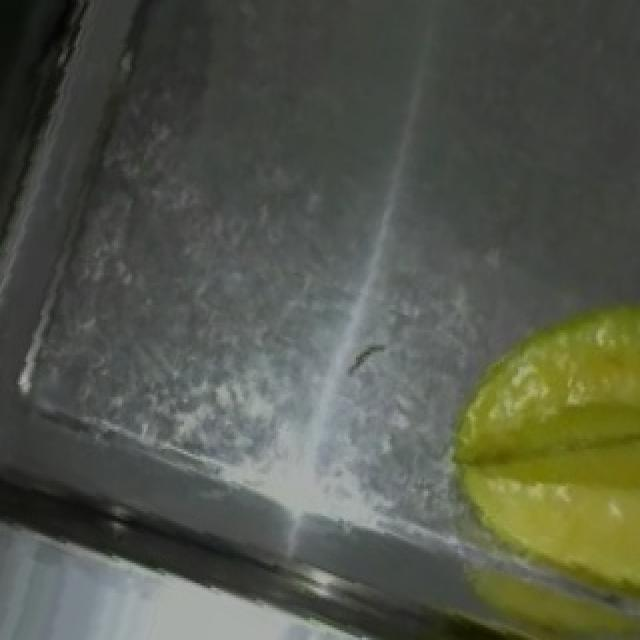fruit: (418, 270, 640, 638)
